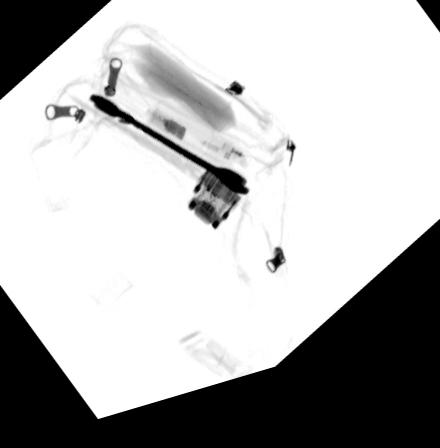Wrench: (87, 98, 252, 211)
